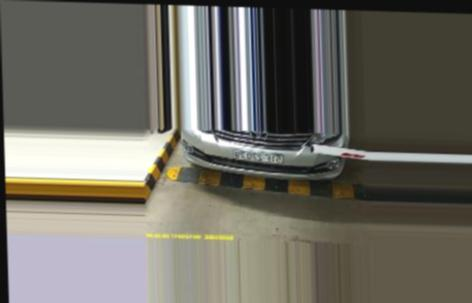License_Plate: (233, 149, 286, 162)
